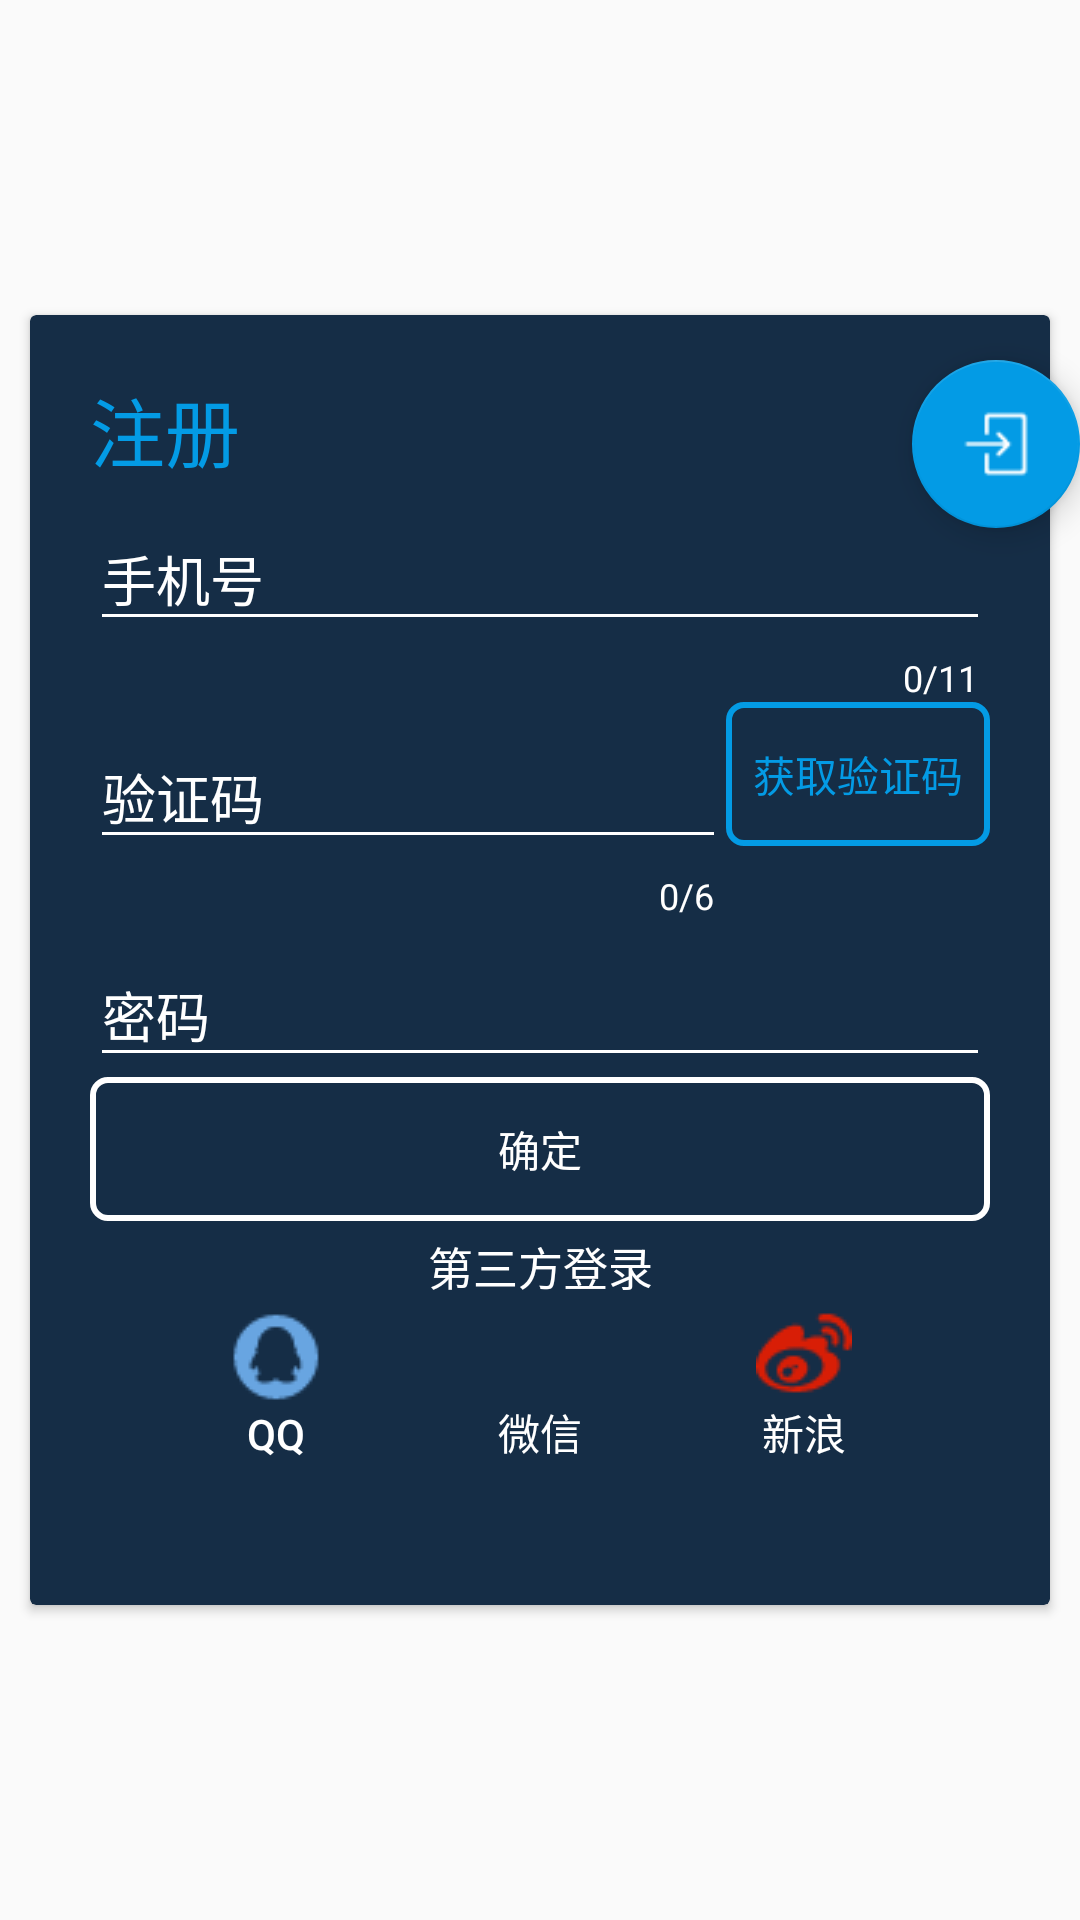

Where to tap for icons on this 1080×1920 app screen, as (x,y):
login: (996,444)
